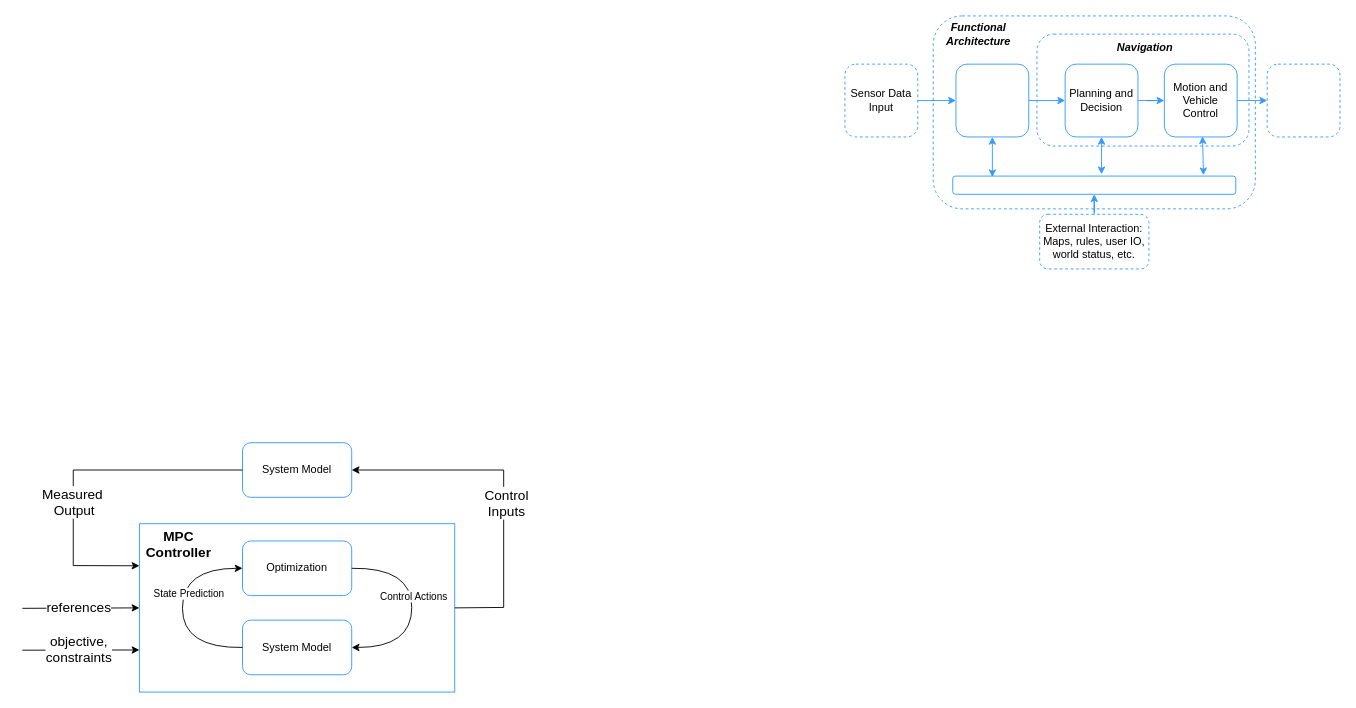
The diagram is 1356 pixels wide and 708 high, and some of its shapes have lost their labels. The shapes that lost their labels are listed below. From the top down, each one's centre as x and y in pixels, then its label:
point 992,100: Perception
point 1303,100: Actuator Input
point 1094,184: System Supervisor
